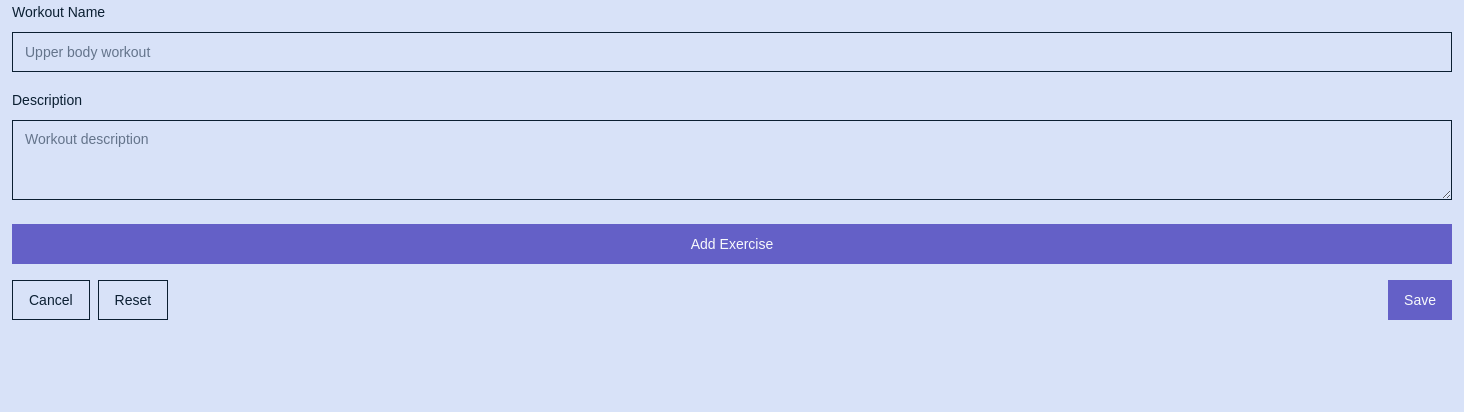
it: Workout form › adds a new exercise when "Add Exercise" button is clicked
Click the button "Add Exercise" at point(732, 244), box [12,224,1452,264]
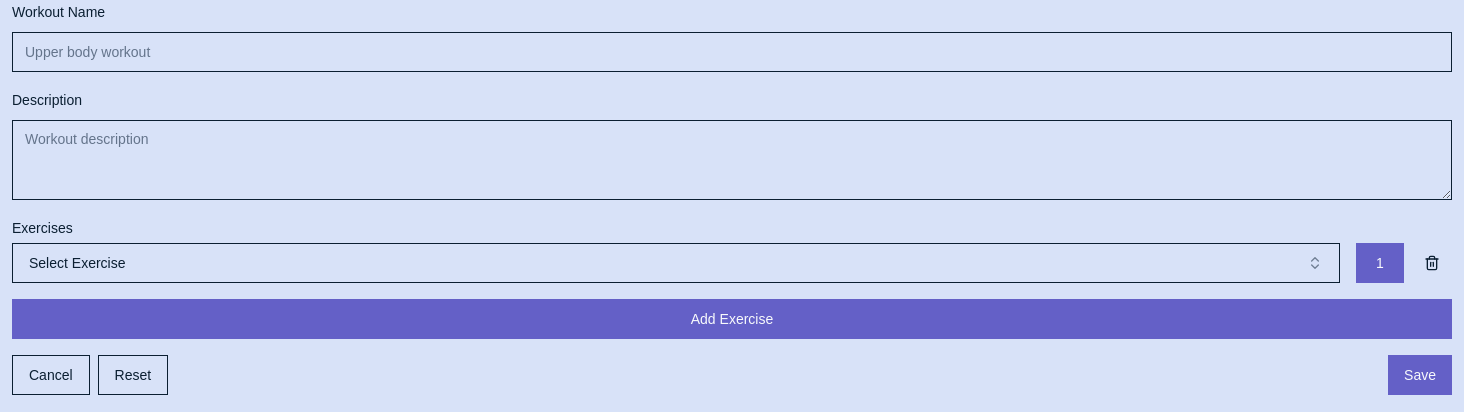
Check: the dropdown "Select Exercise" is shown, box [12,243,1340,283]
